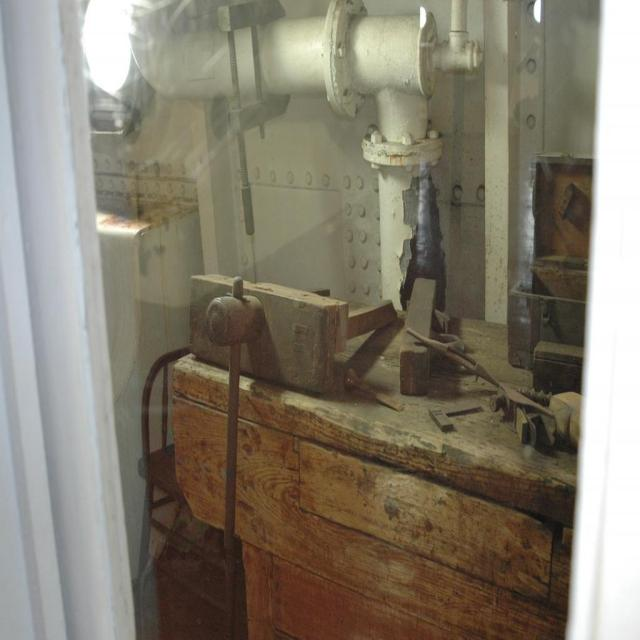table: (146, 295, 586, 639)
